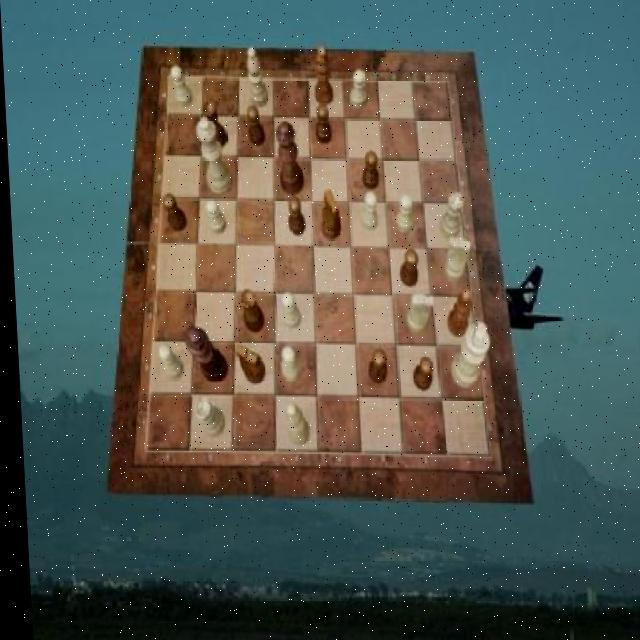bishop: (443, 289, 471, 337), (313, 46, 333, 106)
black-bishop: (181, 326, 224, 382)
black-king: (231, 344, 262, 384), (317, 189, 338, 240)
black-knight: (160, 194, 185, 231), (397, 249, 417, 287), (408, 357, 430, 391), (246, 105, 264, 146), (285, 197, 304, 235), (360, 151, 379, 189), (314, 104, 331, 144), (365, 349, 384, 384)
black-pawn: (274, 122, 303, 196)
black-queen: (200, 100, 226, 149), (236, 289, 261, 333)
black-rook: (246, 48, 268, 108), (281, 403, 307, 445)
white-bishop: (446, 322, 488, 388)
white-king: (440, 237, 470, 282), (403, 294, 432, 332)
white-knight: (154, 344, 180, 380), (170, 66, 192, 108), (278, 292, 299, 330), (357, 192, 376, 231), (393, 194, 412, 232), (276, 346, 296, 382), (204, 199, 225, 233), (349, 69, 367, 108)
white-pawn: (195, 117, 232, 195)
white-queen: (437, 192, 464, 240), (189, 398, 220, 438)
